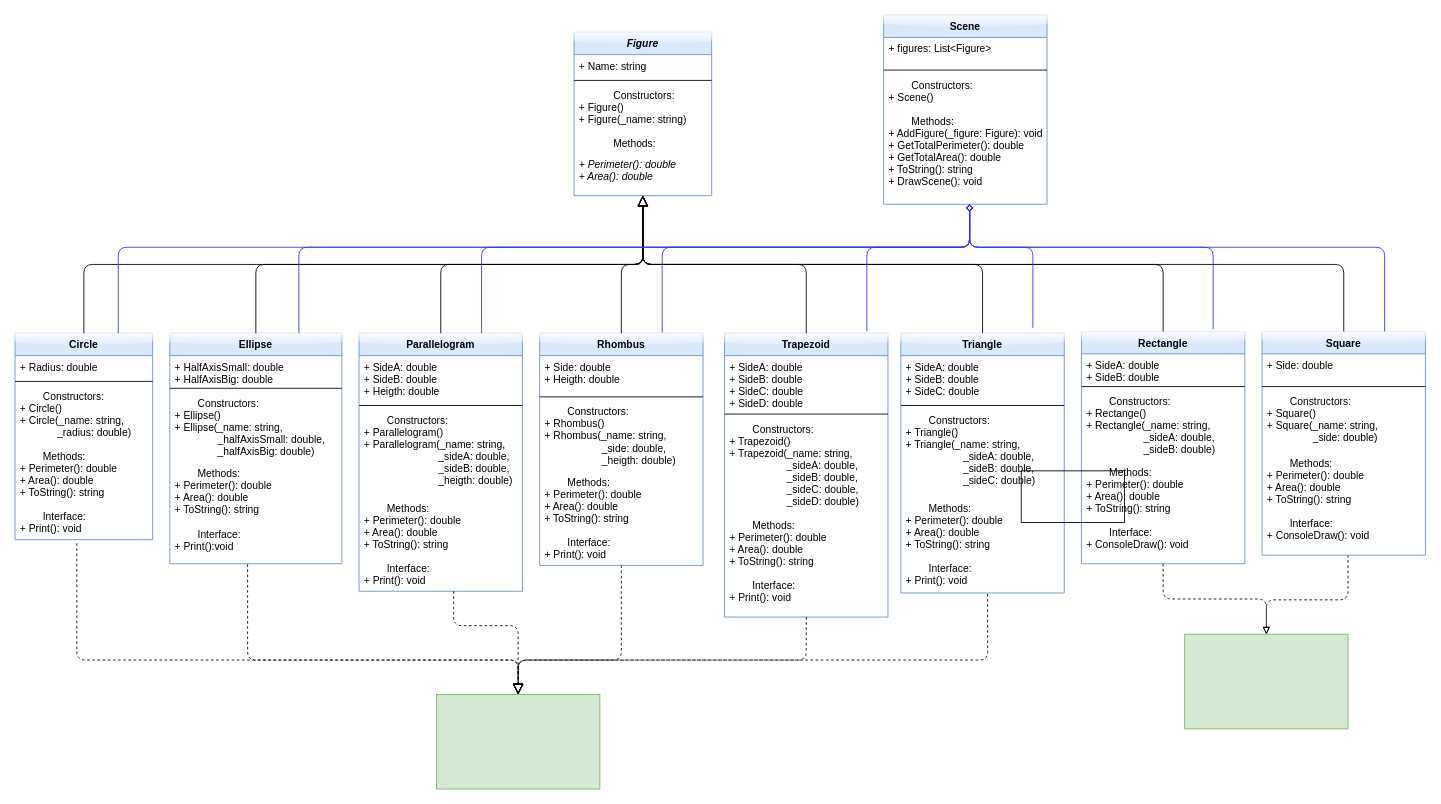
Image size: 1441x804. Some labels were removed from this diagram. The centre of each missing label's shape, as x and y in pixels:
"<<Interface>> IDrawable + ConsoleDraw(): void" belongs at point 1266,681.
"<<Interface>> IPrintable + Print(): void + PrintLine(): void" belongs at point 518,741.
